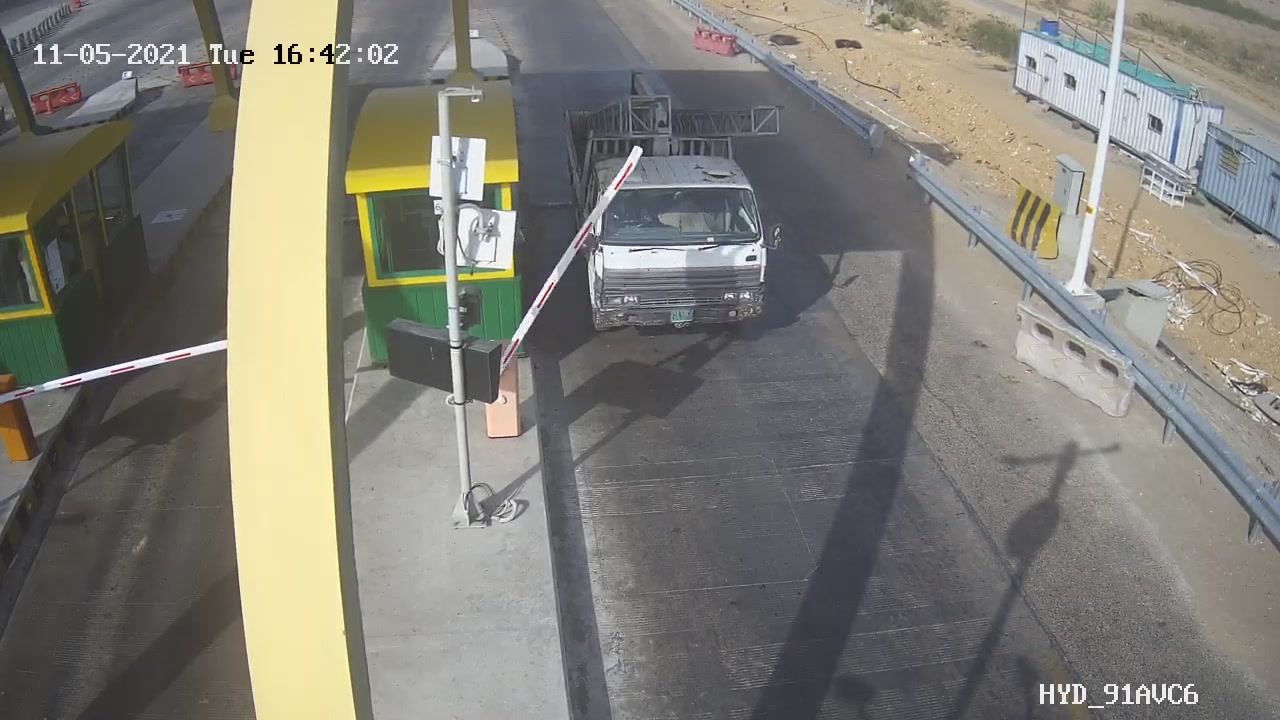F3: (550, 57, 808, 346)
